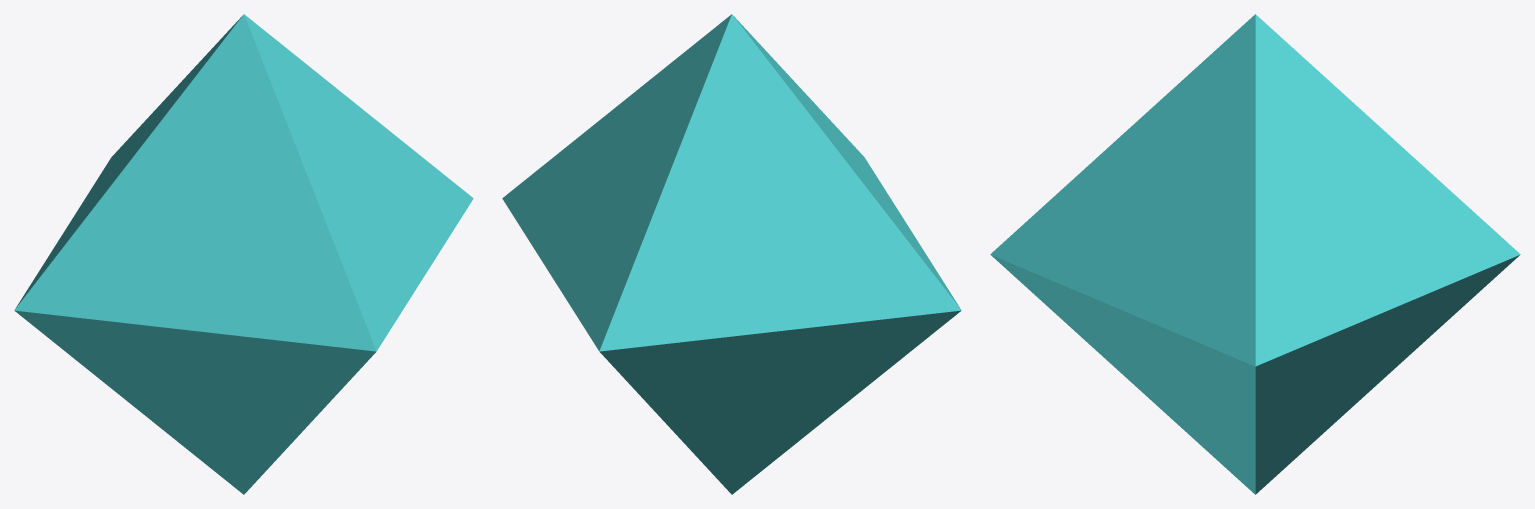
The model's file is collectible-gem.glb.
3 views of the same model, side by side, from view 1: azimuth 30°, elevation 25°; view 2: azimuth 150°, elevation 25°; view 3: azimuth 270°, elevation 25° (orthographic).
Parts seen in each view (by area): view 1: cut-gem; view 2: cut-gem; view 3: cut-gem.
Part boxes in pixels (x1=…): cut-gem: x1=14, y1=14, x2=473, y2=494; cut-gem: x1=502, y1=14, x2=961, y2=494; cut-gem: x1=990, y1=14, x2=1520, y2=494.
Bounding box in the file's own units: 0.86 × 0.86 × 0.86.
